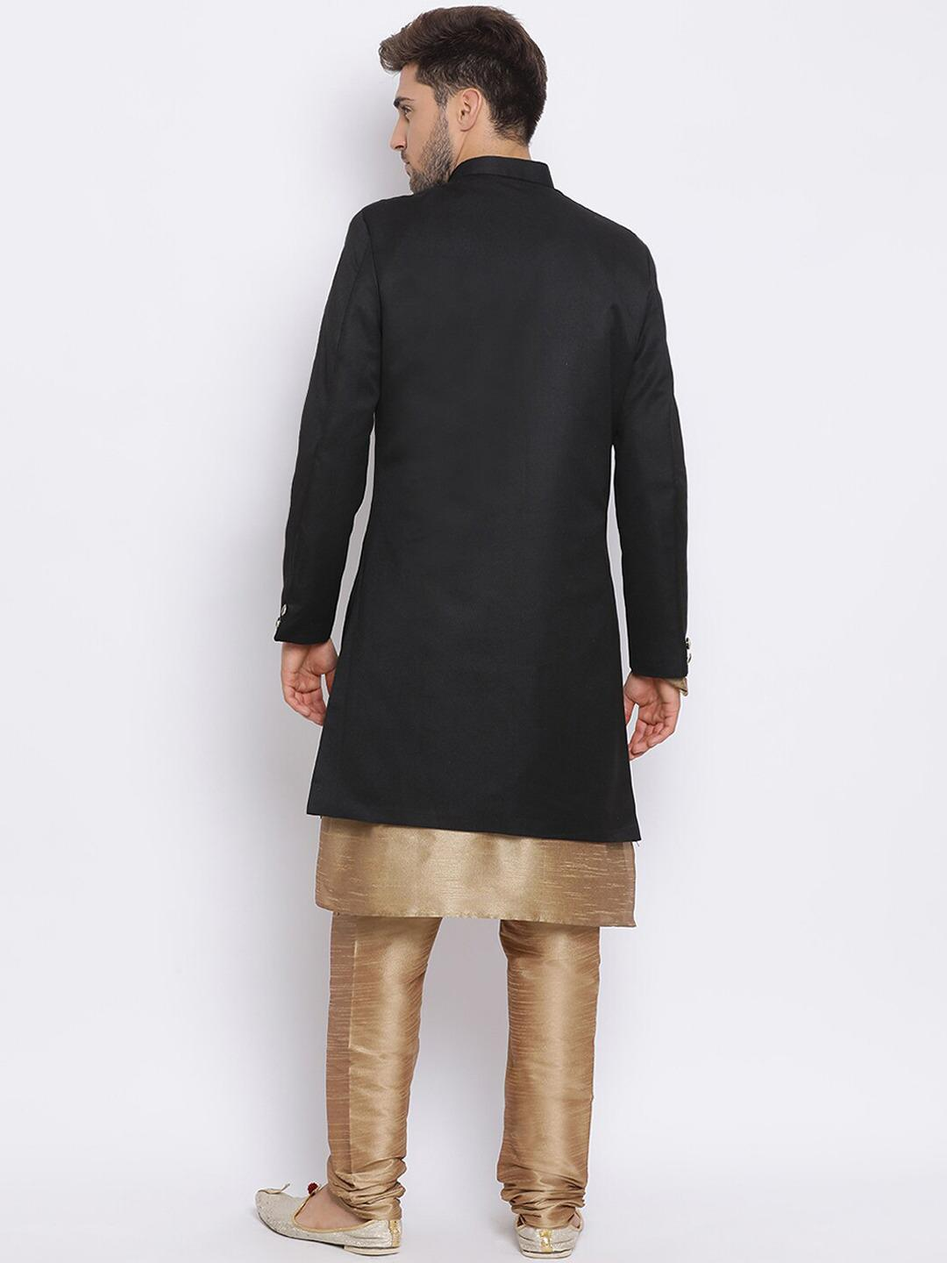Plain Sherwani: (271, 156, 689, 853)
